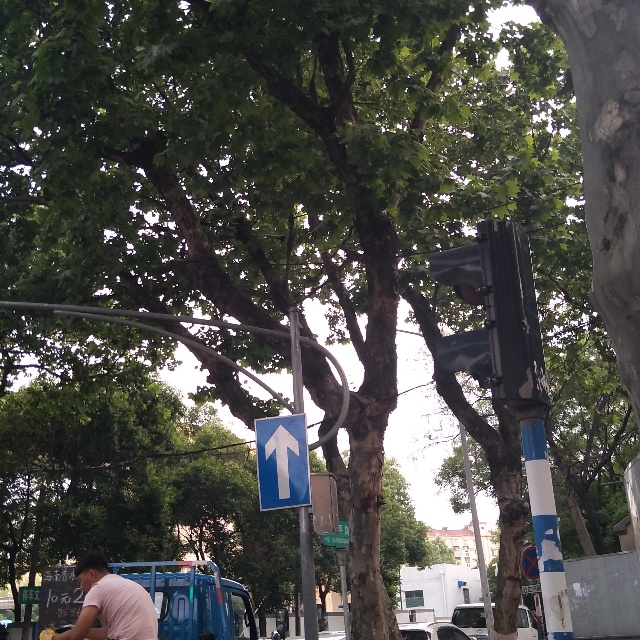straight: (255, 419, 308, 505)
